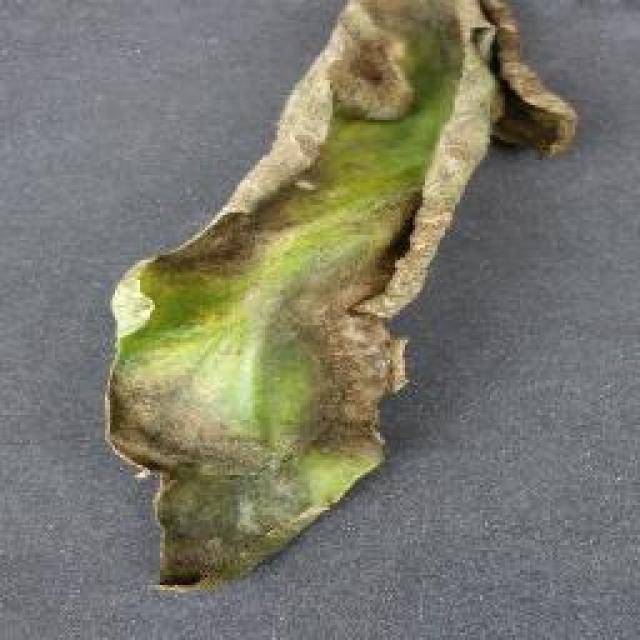Tomato late blight leaf: (105, 0, 581, 603)
